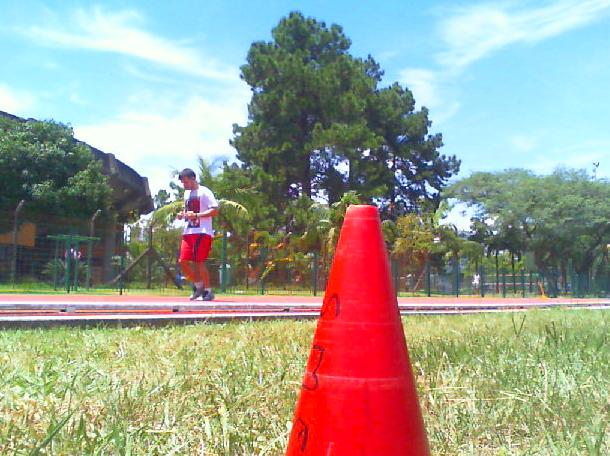0 cone: (282, 205, 432, 456)
